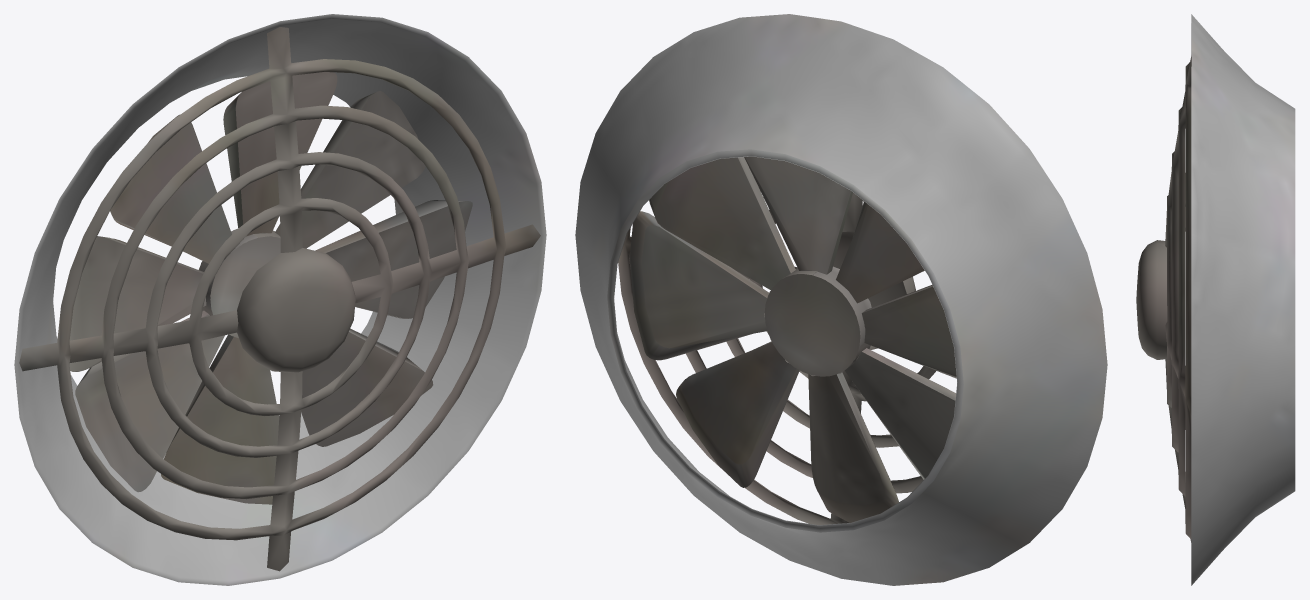
Rendered from duct_fan.glb.
The picture shows the model from 3 angles, left to right: view 1: azimuth 30°, elevation 25°; view 2: azimuth 150°, elevation 25°; view 3: azimuth 270°, elevation 25°; orthographic projection. The views are drawn at different scales.
Visible parts, largest first — view 1: duct_fan; view 2: duct_fan; view 3: duct_fan.
Part boxes in pixels (x1,y1,x2,y2): duct_fan: (14, 14, 546, 585); duct_fan: (575, 14, 1107, 585); duct_fan: (1136, 14, 1295, 585).
Size of the model in its own units: 0.5428 by 0.5432 by 0.1512.
Materials: 1 (1 with a texture image).
